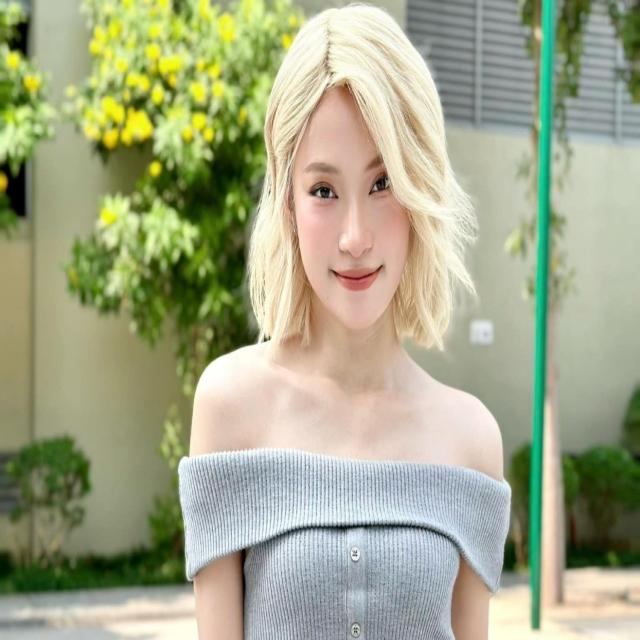Nonhelmet: (245, 3, 479, 353)
